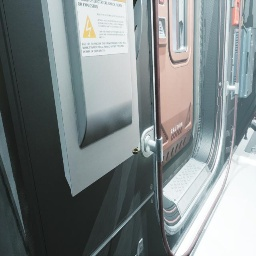EmergencyPhone ,: (236, 0, 244, 27)
FireAlarm ,: (232, 0, 240, 26)
SafetySwitchPanel ,: (41, 0, 143, 197)
